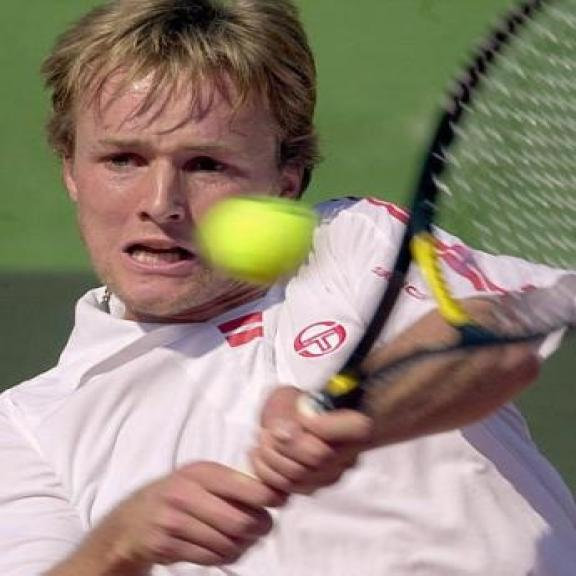face: (48, 58, 306, 312)
